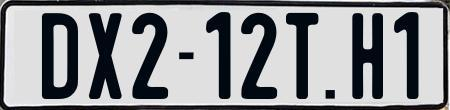1: (204, 10, 233, 99), (394, 12, 421, 99)
2: (131, 11, 172, 101), (240, 12, 277, 103)
D: (39, 11, 79, 103)
H: (349, 13, 382, 103)
T: (286, 12, 324, 104)
X: (86, 11, 122, 103)
